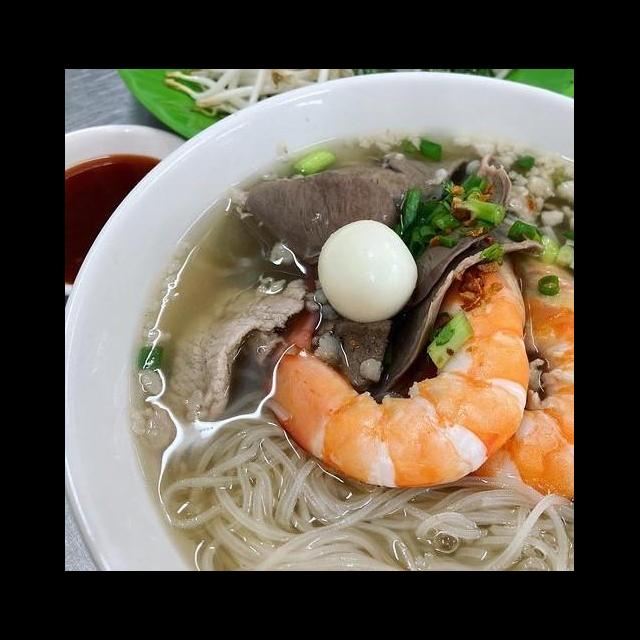banh hu tieu: (126, 404, 574, 571)
hu tieu: (157, 106, 574, 571)
thit bam: (446, 130, 574, 252)
thit heo: (128, 278, 312, 449)
tom: (258, 237, 536, 493), (426, 245, 574, 510)
trung: (314, 214, 424, 328)
